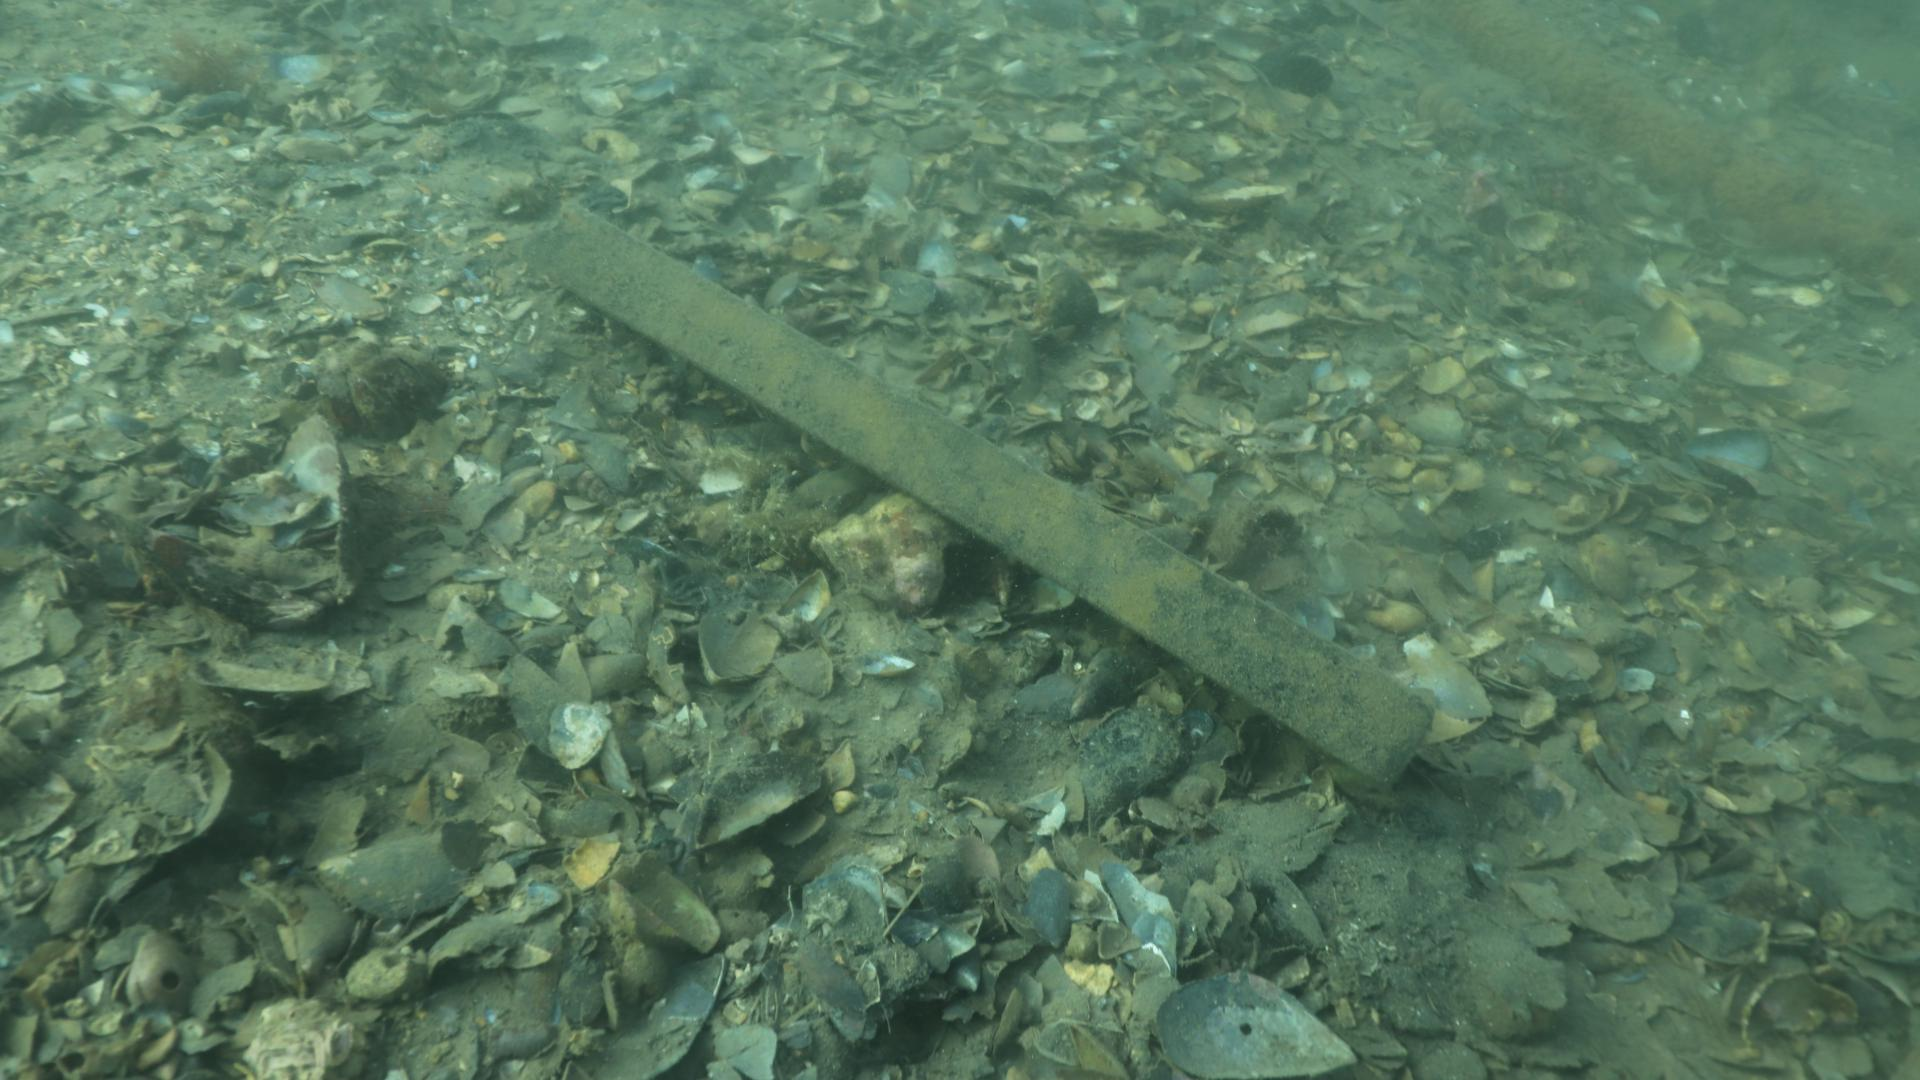wood: (516, 196, 1436, 787)
